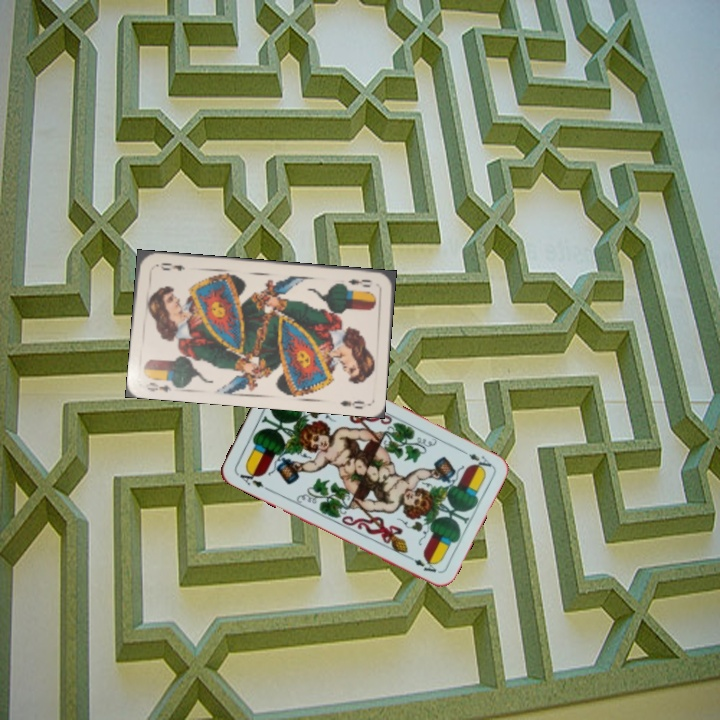EA: (457, 445, 494, 473), (233, 466, 271, 493)
EO: (141, 378, 174, 395), (344, 275, 375, 290)
